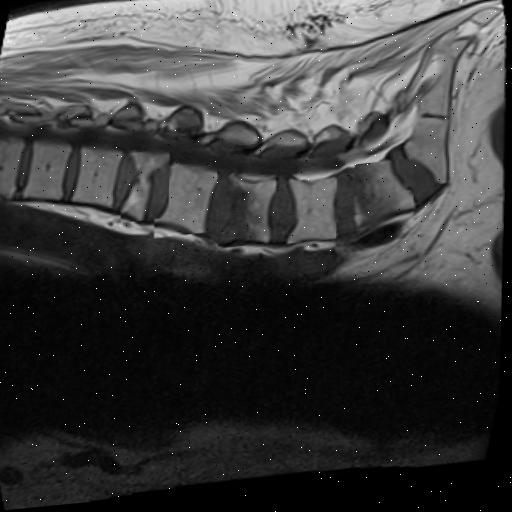L1: (122, 153, 171, 223)
L2: (156, 167, 218, 237)
L3: (220, 179, 278, 247)
L4: (289, 182, 338, 249)
L5: (356, 167, 415, 237)
S1: (406, 125, 449, 191)
